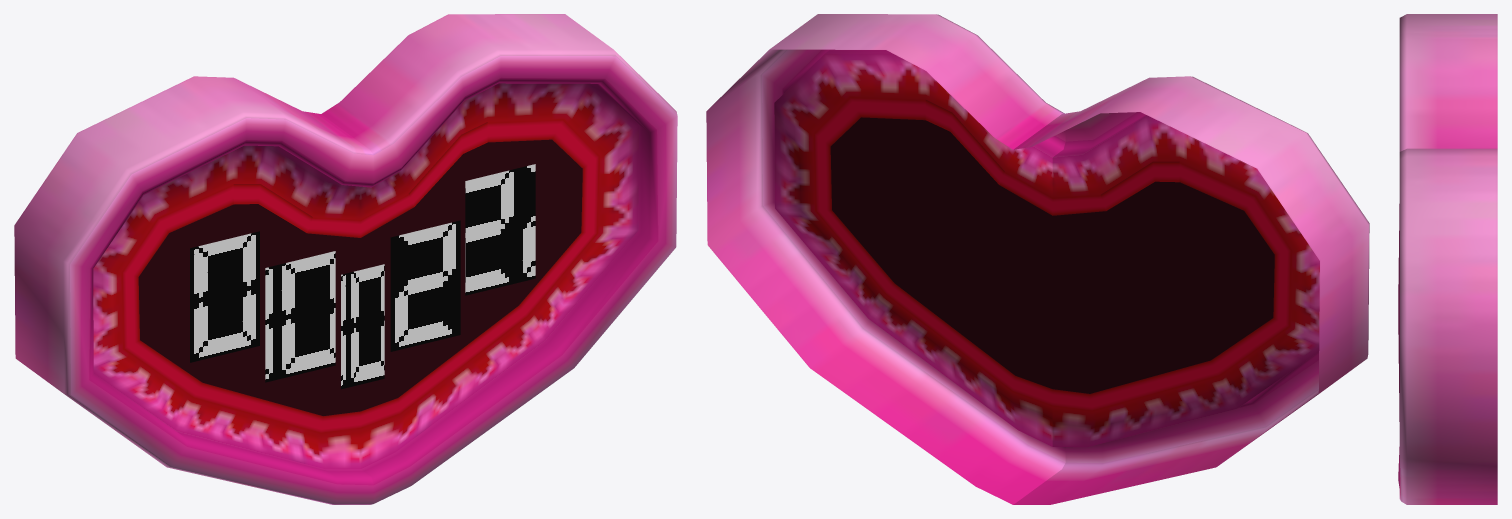
The model's file is rmk_lov_clockD.dae.
3 renders of one model, left to right at view 1: azimuth 30°, elevation 25°; view 2: azimuth 150°, elevation 25°; view 3: azimuth 270°, elevation 25°, orthographic. The views are drawn at different scales.
Parts seen in each view (by area): view 1: rmk_lov_clockD; view 2: rmk_lov_clockD; view 3: rmk_lov_clockD.
Part boxes in pixels (box(x1,y1,x2,y2)): rmk_lov_clockD: box(14, 14, 677, 504); rmk_lov_clockD: box(706, 14, 1369, 504); rmk_lov_clockD: box(1398, 14, 1497, 504).
Size of the model in its own units: 48.33 by 31.92 by 7.29.
Materials: 3 (3 with a texture image).
